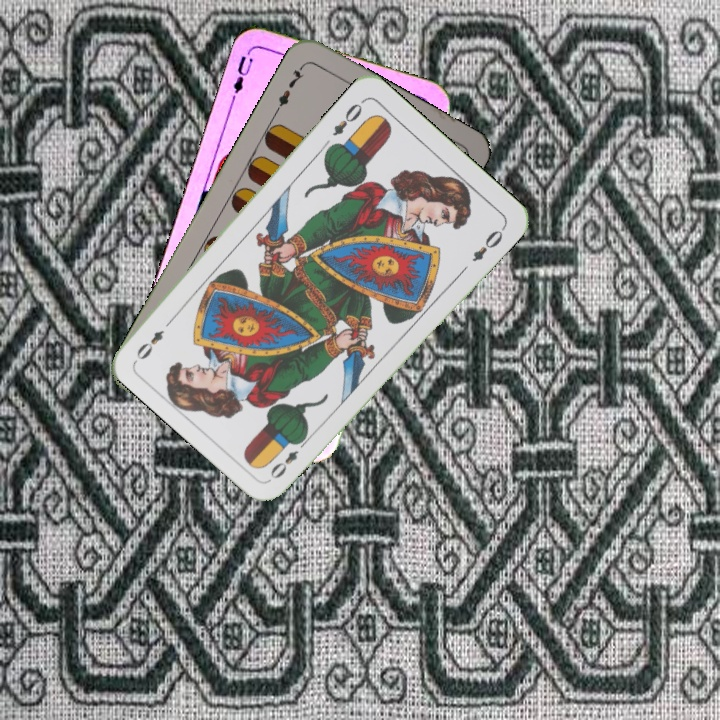E7: (271, 61, 307, 115)
EO: (266, 433, 311, 482), (328, 95, 367, 139)
EU: (225, 51, 256, 103)
